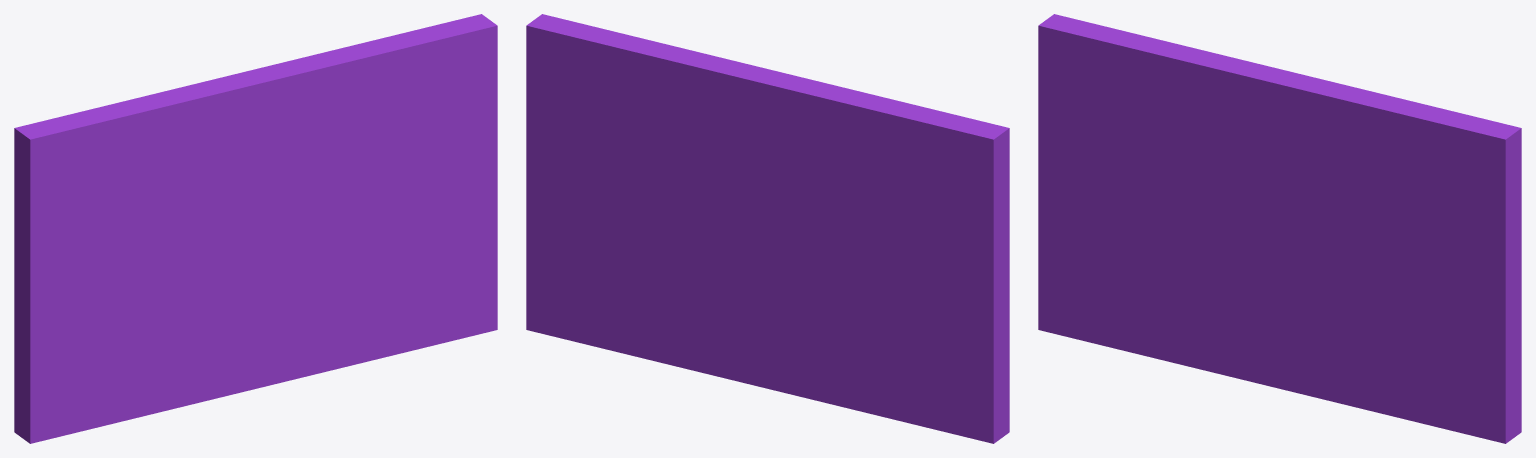
File: Barrier_116_chunks.fbx
3 renders of one model, left to right at view 1: azimuth 30°, elevation 25°; view 2: azimuth 150°, elevation 25°; view 3: azimuth 330°, elevation 25°, orthographic.
Parts seen in each view (by area): view 1: Barrier_116_1, Barrier_116_0, Barrier_116_5, Barrier_116_6, Barrier_116_4, Barrier_116_2; view 2: Barrier_116_1, Barrier_116_0, Barrier_116_5, Barrier_116_6, Barrier_116_3; view 3: Barrier_116_1, Barrier_116_0, Barrier_116_5, Barrier_116_6, Barrier_116_4, Barrier_116_2.
Part boxes in pixels (bbox=[...]): Barrier_116_1: bbox=[14, 126, 263, 443]; Barrier_116_0: bbox=[256, 54, 497, 388]; Barrier_116_5: bbox=[21, 63, 313, 220]; Barrier_116_6: bbox=[282, 14, 497, 129]; Barrier_116_4: bbox=[279, 117, 398, 191]; Barrier_116_2: bbox=[237, 181, 332, 264]; Barrier_116_1: bbox=[762, 124, 1009, 443]; Barrier_116_0: bbox=[526, 55, 770, 389]; Barrier_116_5: bbox=[710, 62, 994, 227]; Barrier_116_6: bbox=[526, 14, 739, 129]; Barrier_116_3: bbox=[624, 125, 782, 236]; Barrier_116_1: bbox=[1038, 14, 1271, 384]; Barrier_116_0: bbox=[1264, 157, 1521, 443]; Barrier_116_5: bbox=[1052, 15, 1321, 209]; Barrier_116_6: bbox=[1307, 79, 1521, 195]; Barrier_116_4: bbox=[1287, 141, 1406, 213]; Barrier_116_2: bbox=[1245, 207, 1340, 264].
Size of the model in its own units: 462 by 288 by 27.2.
